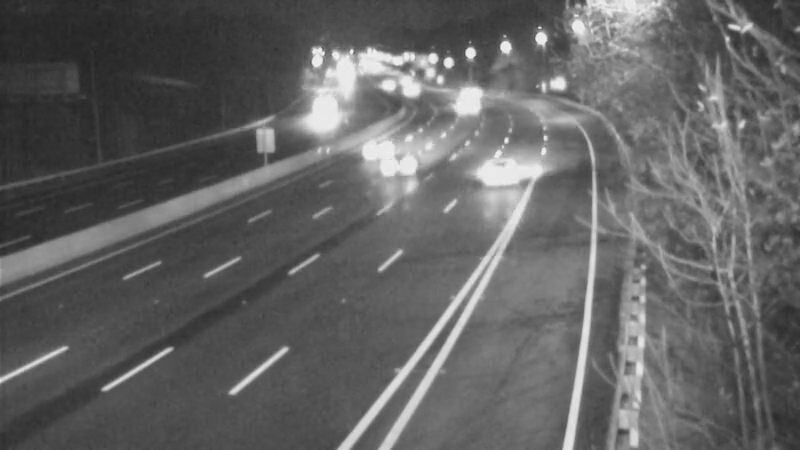vehicle: (358, 133, 438, 213), (457, 120, 537, 200), (432, 79, 482, 129), (360, 114, 410, 164), (293, 91, 343, 141)
